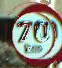Speed limit: (7, 8, 57, 60)
